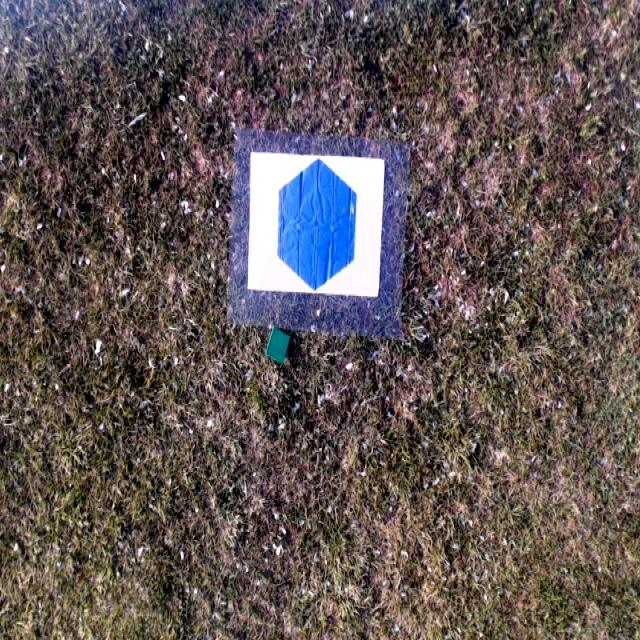blue_hexagon: (275, 152, 358, 291)
